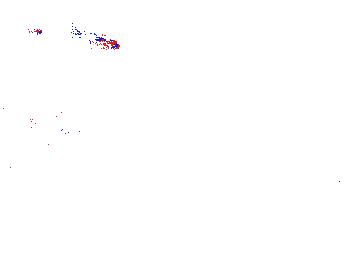red belly glassfish: (77, 28, 119, 51)
redtail glassfish: (25, 110, 90, 143)
